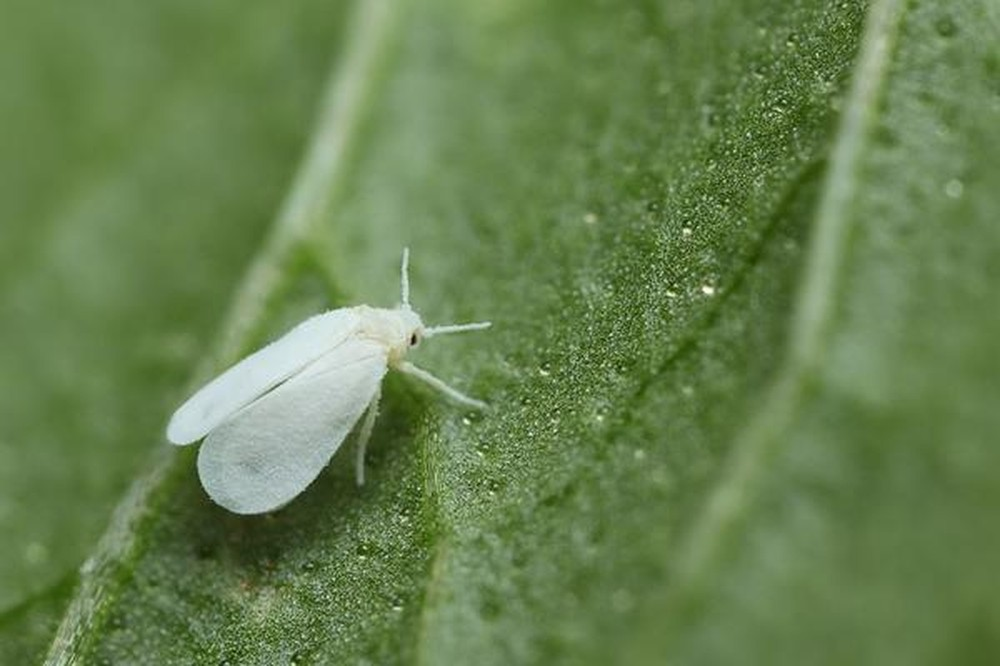Mosca Blanca: (146, 241, 508, 508)
